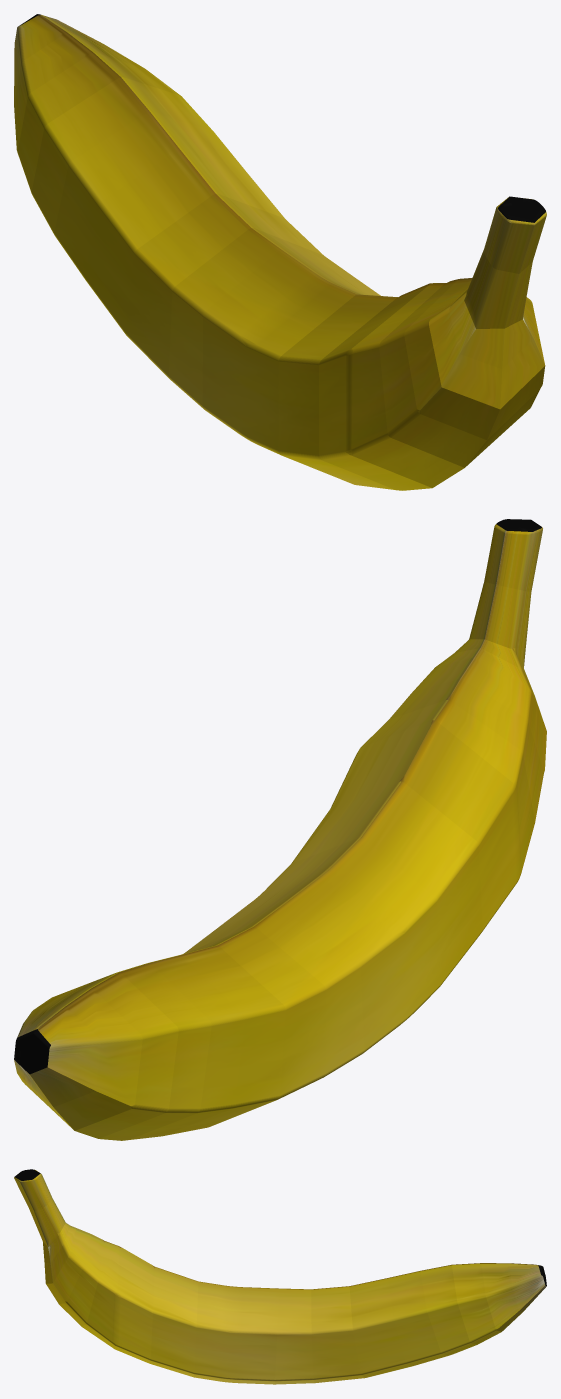
3 renders of one model, top to bottom at view 1: azimuth 30°, elevation 25°; view 2: azimuth 150°, elevation 25°; view 3: azimuth 270°, elevation 25°, orthographic. The views are drawn at different scales.
Parts seen in each view (by area): view 1: banana; view 2: banana; view 3: banana.
Boxes of the visible parts, x1,y1,x2,y2 form: banana: [14, 14, 546, 490]; banana: [14, 519, 546, 1140]; banana: [14, 1169, 546, 1384].
Bounding box in the file's own units: 0.0445 × 0.1034 × 0.2358.
1 material, 1 textured.
